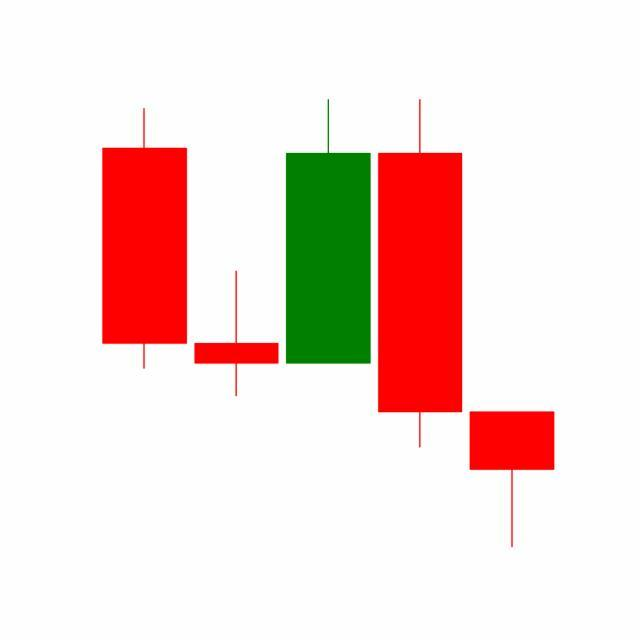Hammer: (466, 411, 559, 550)
